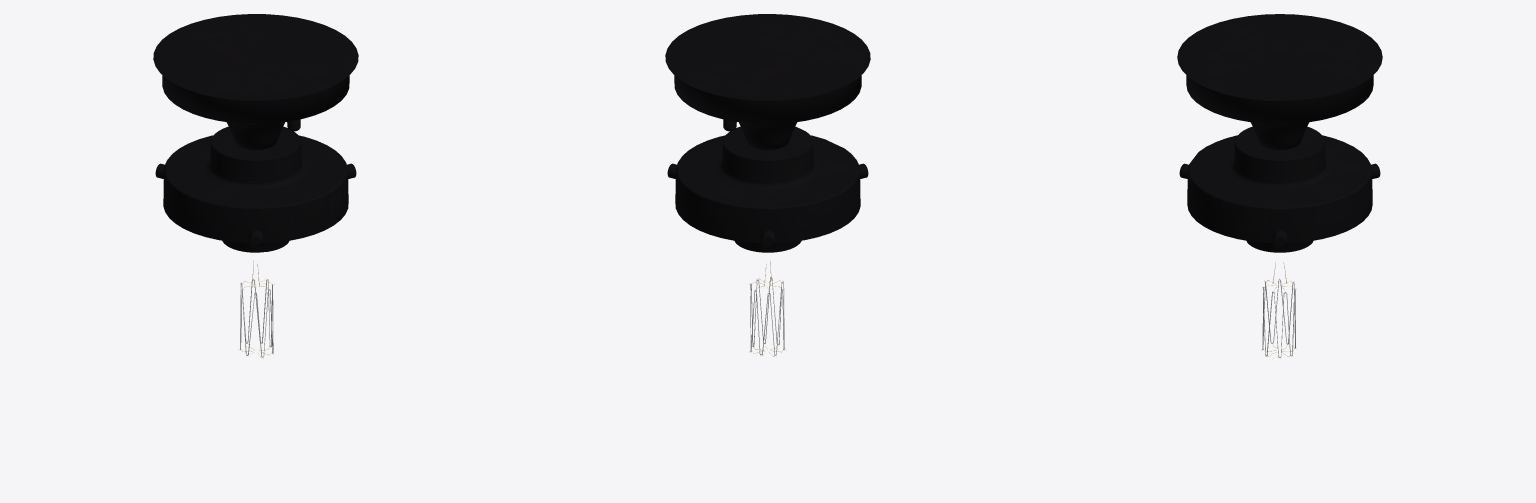
File: abo-B07B4Z9BS4.glb
3 views of the same model, side by side, from view 1: azimuth 30°, elevation 25°; view 2: azimuth 150°, elevation 25°; view 3: azimuth 270°, elevation 25° (orthographic).
Bounding box in the file's own units: 0.279 × 0.269 × 0.279.
Materials: 1 (1 with a texture image).
